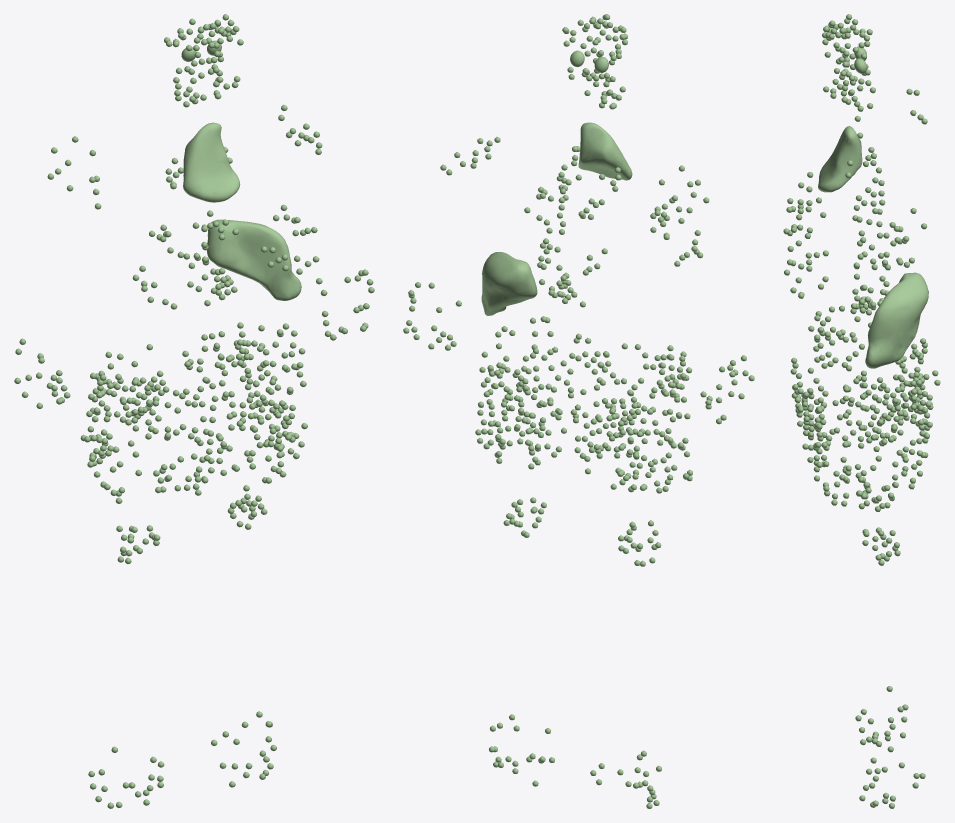
File: pediatric_child_5y_male.lymphatic.LOD0.glb
The picture shows the model from 3 angles, left to right: view 1: azimuth 30°, elevation 25°; view 2: azimuth 150°, elevation 25°; view 3: azimuth 270°, elevation 25°; orthographic projection. The views are drawn at different scales.
Visible parts, largest first — view 1: PEDIATRIC.CHILD_5Y.MALE.LYMPHATIC.LYMPHATIC_NODES_TRUNK, PEDIATRIC.CHILD_5Y.MALE.LYMPHATIC.SPLEEN, PEDIATRIC.CHILD_5Y.MALE.LYMPHATIC.THYMUS, PEDIATRIC.CHILD_5Y.MALE.LYMPHATIC.LYMPHATIC_NODES_ET, PEDIATRIC.CHILD_5Y.MALE.LYMPHATIC.LYMPHATIC_NODES_LEGS, PEDIATRIC.CHILD_5Y.MALE.LYMPHATIC.LYMPHATIC_NODES_THORACIC, PEDIATRIC.CHILD_5Y.MALE.LYMPHATIC.LYMPHATIC_NODES_ARMS, PEDIATRIC.CHILD_5Y.MALE.LYMPHATIC.LYMPHATIC_NODES_HEAD; view 2: PEDIATRIC.CHILD_5Y.MALE.LYMPHATIC.LYMPHATIC_NODES_TRUNK, PEDIATRIC.CHILD_5Y.MALE.LYMPHATIC.SPLEEN, PEDIATRIC.CHILD_5Y.MALE.LYMPHATIC.THYMUS, PEDIATRIC.CHILD_5Y.MALE.LYMPHATIC.LYMPHATIC_NODES_THORACIC, PEDIATRIC.CHILD_5Y.MALE.LYMPHATIC.LYMPHATIC_NODES_ET, PEDIATRIC.CHILD_5Y.MALE.LYMPHATIC.LYMPHATIC_NODES_ARMS, PEDIATRIC.CHILD_5Y.MALE.LYMPHATIC.LYMPHATIC_NODES_LEGS; view 3: PEDIATRIC.CHILD_5Y.MALE.LYMPHATIC.LYMPHATIC_NODES_TRUNK, PEDIATRIC.CHILD_5Y.MALE.LYMPHATIC.SPLEEN, PEDIATRIC.CHILD_5Y.MALE.LYMPHATIC.THYMUS, PEDIATRIC.CHILD_5Y.MALE.LYMPHATIC.LYMPHATIC_NODES_THORACIC, PEDIATRIC.CHILD_5Y.MALE.LYMPHATIC.LYMPHATIC_NODES_ET, PEDIATRIC.CHILD_5Y.MALE.LYMPHATIC.LYMPHATIC_NODES_LEGS, PEDIATRIC.CHILD_5Y.MALE.LYMPHATIC.LYMPHATIC_NODES_ARMS, PEDIATRIC.CHILD_5Y.MALE.LYMPHATIC.LYMPHATIC_NODES_HEAD.
Part boxes in pixels (x1,y1,x2,y2): PEDIATRIC.CHILD_5Y.MALE.LYMPHATIC.LYMPHATIC_NODES_TRUNK: [47, 104, 322, 564]; PEDIATRIC.CHILD_5Y.MALE.LYMPHATIC.SPLEEN: [207, 219, 301, 300]; PEDIATRIC.CHILD_5Y.MALE.LYMPHATIC.THYMUS: [183, 122, 240, 202]; PEDIATRIC.CHILD_5Y.MALE.LYMPHATIC.LYMPHATIC_NODES_ET: [164, 14, 243, 87]; PEDIATRIC.CHILD_5Y.MALE.LYMPHATIC.LYMPHATIC_NODES_LEGS: [88, 711, 276, 808]; PEDIATRIC.CHILD_5Y.MALE.LYMPHATIC.LYMPHATIC_NODES_THORACIC: [149, 147, 238, 306]; PEDIATRIC.CHILD_5Y.MALE.LYMPHATIC.LYMPHATIC_NODES_ARMS: [14, 269, 374, 408]; PEDIATRIC.CHILD_5Y.MALE.LYMPHATIC.LYMPHATIC_NODES_HEAD: [173, 67, 240, 107]; PEDIATRIC.CHILD_5Y.MALE.LYMPHATIC.LYMPHATIC_NODES_TRUNK: [440, 137, 709, 566]; PEDIATRIC.CHILD_5Y.MALE.LYMPHATIC.SPLEEN: [481, 252, 537, 315]; PEDIATRIC.CHILD_5Y.MALE.LYMPHATIC.THYMUS: [578, 122, 632, 180]; PEDIATRIC.CHILD_5Y.MALE.LYMPHATIC.LYMPHATIC_NODES_THORACIC: [537, 146, 621, 307]; PEDIATRIC.CHILD_5Y.MALE.LYMPHATIC.LYMPHATIC_NODES_ET: [562, 14, 627, 86]; PEDIATRIC.CHILD_5Y.MALE.LYMPHATIC.LYMPHATIC_NODES_ARMS: [403, 282, 754, 424]; PEDIATRIC.CHILD_5Y.MALE.LYMPHATIC.LYMPHATIC_NODES_LEGS: [489, 714, 661, 808]; PEDIATRIC.CHILD_5Y.MALE.LYMPHATIC.LYMPHATIC_NODES_TRUNK: [783, 87, 940, 565]; PEDIATRIC.CHILD_5Y.MALE.LYMPHATIC.SPLEEN: [865, 272, 928, 368]; PEDIATRIC.CHILD_5Y.MALE.LYMPHATIC.THYMUS: [818, 126, 862, 192]; PEDIATRIC.CHILD_5Y.MALE.LYMPHATIC.LYMPHATIC_NODES_THORACIC: [845, 147, 914, 313]; PEDIATRIC.CHILD_5Y.MALE.LYMPHATIC.LYMPHATIC_NODES_ET: [822, 14, 872, 91]; PEDIATRIC.CHILD_5Y.MALE.LYMPHATIC.LYMPHATIC_NODES_LEGS: [855, 686, 925, 808]; PEDIATRIC.CHILD_5Y.MALE.LYMPHATIC.LYMPHATIC_NODES_ARMS: [852, 238, 901, 451]; PEDIATRIC.CHILD_5Y.MALE.LYMPHATIC.LYMPHATIC_NODES_HEAD: [823, 64, 871, 104].
Size of the model in its own units: 0.3376 by 0.7268 by 0.1358.
